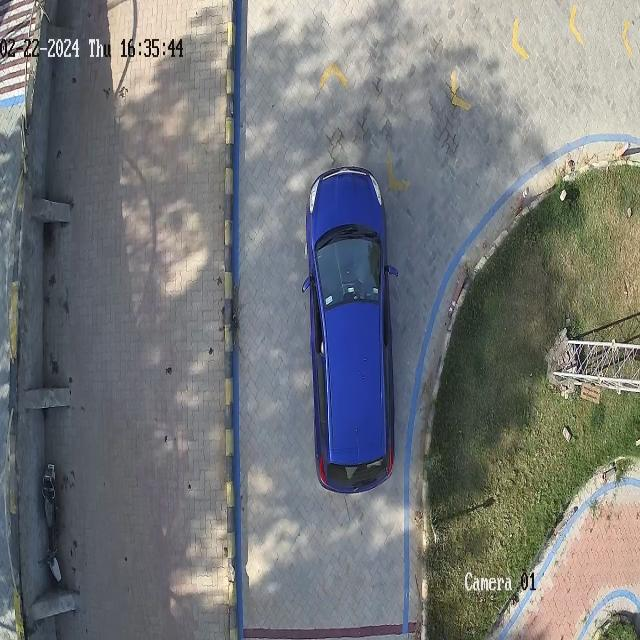car: (302, 167, 398, 493)
